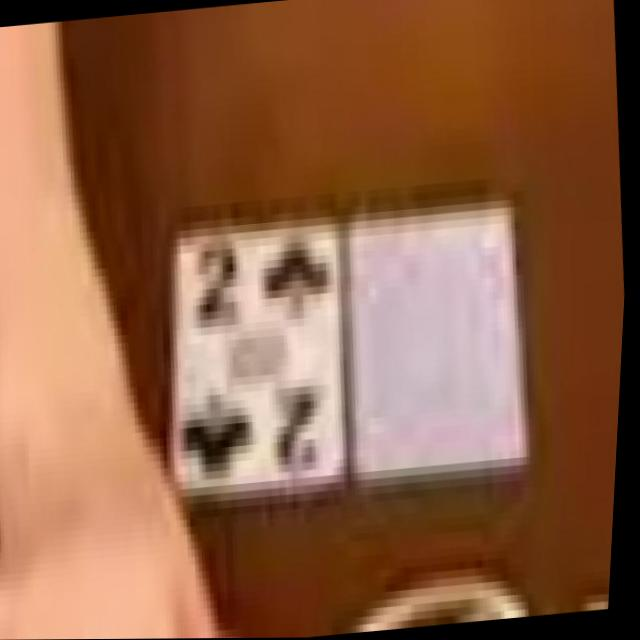Card-2: (181, 224, 349, 483)
